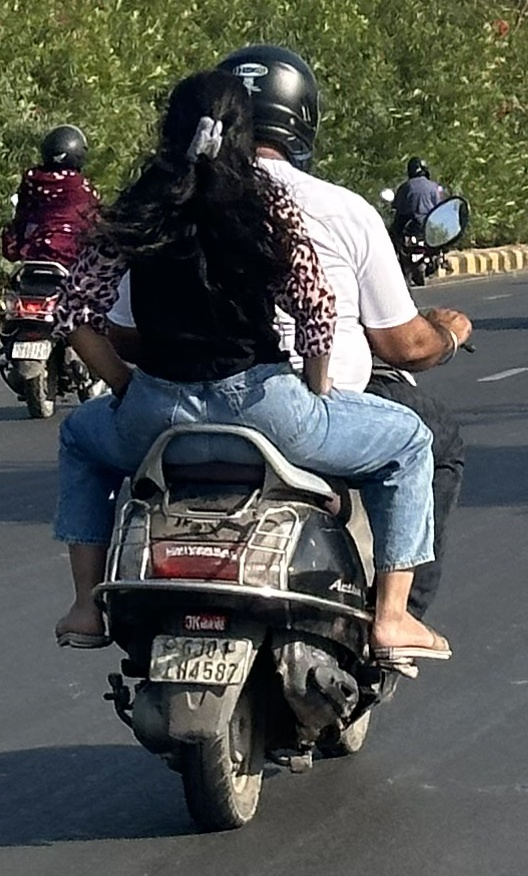BikeWithRider: (43, 36, 472, 829), (0, 106, 117, 435), (385, 139, 455, 281)
Helmet: (218, 34, 335, 163), (41, 122, 94, 181), (404, 148, 436, 184)
NoHelmet: (147, 72, 269, 181)
